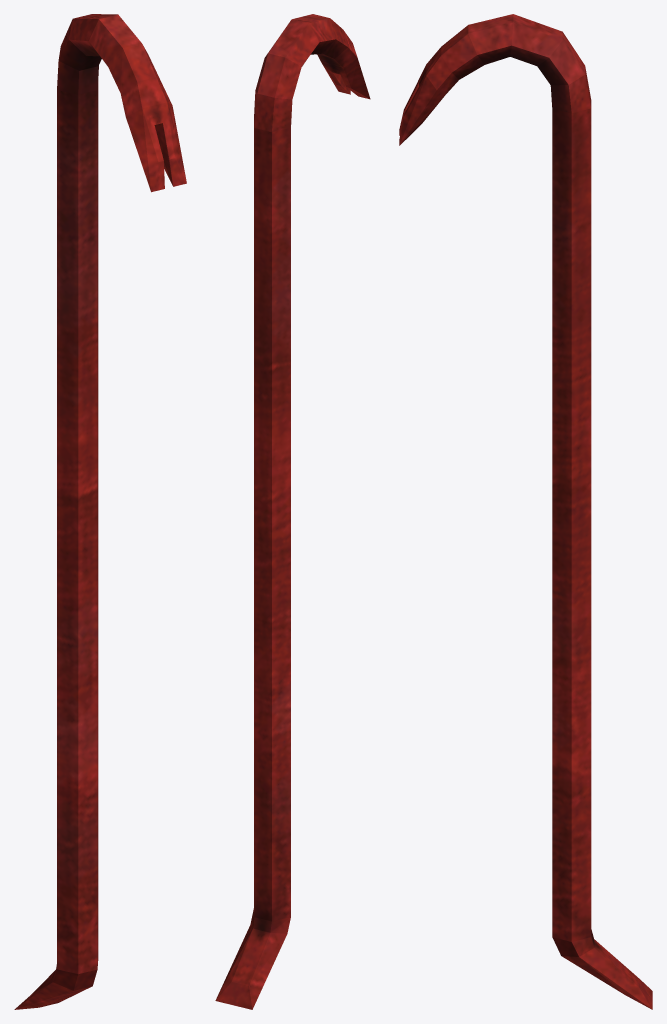
File: Crowbar (DR2).obj
The picture shows the model from 3 angles, left to right: view 1: azimuth 30°, elevation 25°; view 2: azimuth 150°, elevation 25°; view 3: azimuth 270°, elevation 25°; orthographic projection. The views are drawn at different scales.
Parts seen in each view (by area): view 1: Mesh_0689.rip_Tex_025; view 2: Mesh_0689.rip_Tex_025; view 3: Mesh_0689.rip_Tex_025.
Part boxes in pixels (bbox=[...]): Mesh_0689.rip_Tex_025: bbox=[14, 14, 186, 1009]; Mesh_0689.rip_Tex_025: bbox=[215, 14, 370, 1009]; Mesh_0689.rip_Tex_025: bbox=[399, 14, 652, 1009].
Size of the model in its own units: 0.034 by 0.723 by 0.169.
